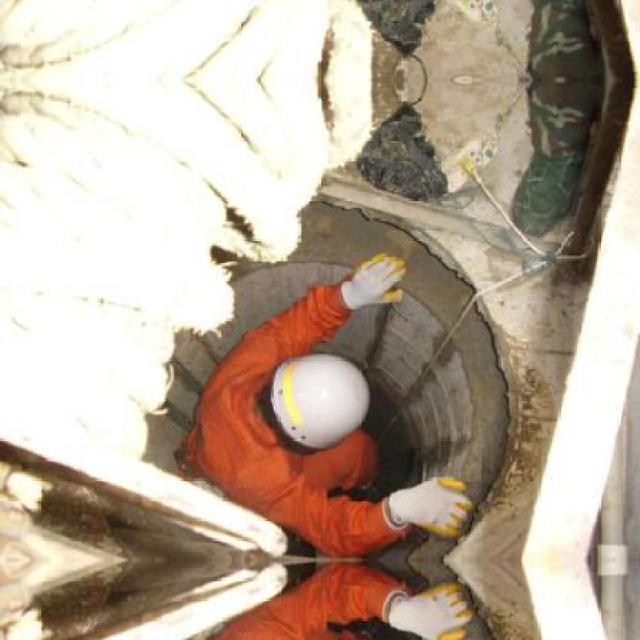helmet: (269, 354, 380, 452)
